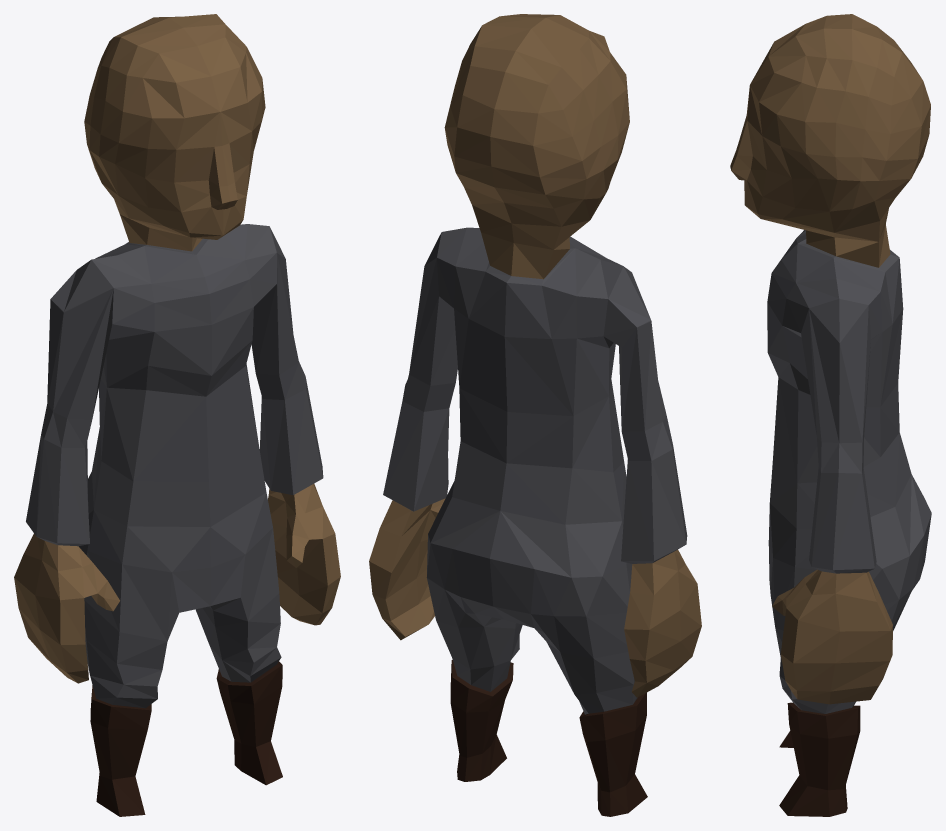
The model's file is knight_character.glb.
3 views of the same model, side by side, from view 1: azimuth 30°, elevation 25°; view 2: azimuth 150°, elevation 25°; view 3: azimuth 270°, elevation 25° (orthographic). The views are drawn at different scales.
Parts seen in each view (by area): view 1: world; view 2: world; view 3: world.
Part boxes in pixels (x1,y1,x2,y2): world: (14, 14, 340, 816); world: (369, 14, 701, 816); world: (730, 14, 931, 816).
Size of the model in its own units: 2.21 by 5.59 by 1.37.
Materials: 1 (1 with a texture image).
